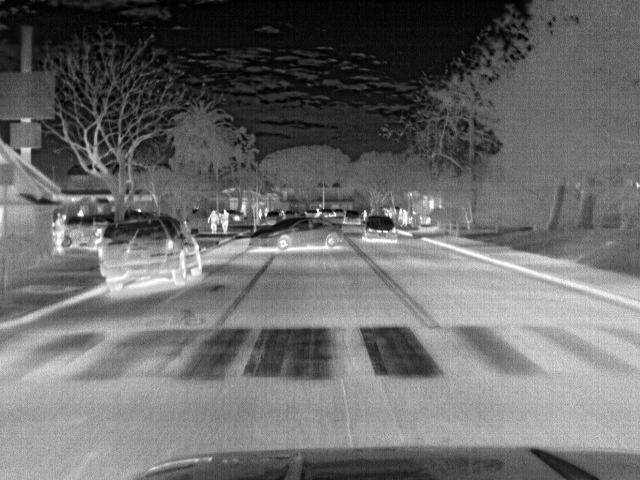car: (98, 212, 205, 290), (246, 218, 350, 252), (66, 216, 112, 252), (360, 215, 400, 243), (342, 208, 365, 225)
person: (216, 208, 230, 236), (208, 210, 220, 236)
